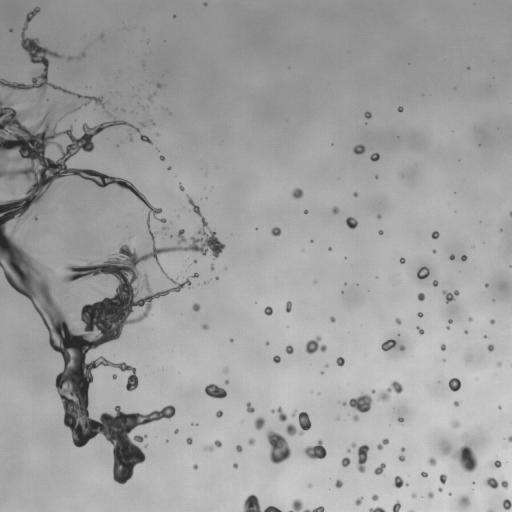droplet: (265, 428, 291, 463), (338, 391, 372, 413), (285, 408, 311, 436), (301, 439, 326, 460), (304, 335, 327, 354), (204, 383, 226, 399), (270, 405, 288, 423), (442, 289, 459, 303), (392, 475, 409, 488), (483, 476, 499, 489), (448, 377, 462, 391), (381, 339, 396, 351), (253, 416, 265, 431), (456, 495, 471, 507), (345, 216, 358, 229), (416, 266, 429, 279), (373, 462, 386, 475), (291, 187, 303, 199), (426, 455, 439, 466), (353, 144, 365, 155), (14, 189, 25, 200), (295, 197, 306, 208), (196, 261, 207, 272), (199, 268, 210, 279), (273, 303, 284, 314), (120, 323, 131, 334), (294, 342, 305, 353), (84, 350, 95, 361), (53, 361, 64, 372), (212, 397, 223, 408), (138, 404, 149, 415), (450, 407, 461, 418), (89, 409, 100, 420), (263, 419, 274, 430), (275, 424, 286, 435), (62, 427, 73, 438), (256, 428, 267, 439), (94, 431, 105, 442), (284, 434, 295, 445), (222, 439, 233, 450), (451, 440, 462, 451), (103, 441, 114, 452), (261, 442, 272, 453), (289, 446, 300, 457), (470, 446, 481, 457), (104, 453, 115, 464), (364, 458, 375, 469), (452, 459, 463, 470), (132, 462, 143, 473), (336, 466, 347, 477), (429, 466, 440, 477), (383, 468, 394, 479), (491, 468, 502, 479), (302, 498, 313, 509), (449, 419, 461, 429), (270, 226, 281, 236), (341, 456, 351, 467), (280, 501, 291, 511), (147, 91, 156, 103), (489, 460, 501, 469), (502, 499, 511, 511), (246, 402, 255, 413), (392, 500, 401, 511), (285, 300, 292, 313), (191, 302, 201, 311), (285, 344, 294, 354), (354, 496, 363, 506), (439, 473, 447, 484), (370, 152, 379, 161), (264, 306, 273, 315), (336, 357, 345, 366), (334, 479, 343, 488), (24, 29, 33, 38), (20, 50, 29, 59), (362, 149, 371, 158), (65, 159, 74, 168), (118, 171, 127, 180), (125, 174, 134, 183), (351, 211, 360, 220), (149, 218, 158, 227), (207, 221, 216, 230), (216, 233, 225, 242), (168, 237, 177, 246), (415, 300, 424, 309), (416, 317, 425, 326), (279, 351, 288, 360), (121, 405, 130, 414), (56, 407, 65, 416), (248, 412, 257, 421), (290, 417, 299, 426), (261, 423, 270, 432), (126, 430, 135, 439), (177, 431, 186, 440), (433, 451, 442, 460), (232, 452, 241, 461), (349, 452, 358, 461), (422, 463, 431, 472), (452, 489, 461, 498), (258, 500, 267, 509), (431, 230, 439, 239), (417, 292, 425, 301), (247, 437, 255, 446), (426, 491, 434, 500), (505, 488, 511, 499), (235, 505, 246, 511), (357, 505, 368, 511), (460, 505, 471, 511), (331, 206, 339, 214), (416, 326, 424, 334), (273, 355, 281, 363), (397, 416, 404, 425), (235, 444, 242, 453), (364, 111, 371, 119), (201, 323, 209, 330), (216, 409, 223, 417), (186, 437, 193, 445), (29, 0, 40, 5), (0, 86, 5, 97), (0, 176, 5, 187), (0, 193, 5, 204), (0, 273, 5, 284), (460, 254, 467, 261), (329, 316, 336, 323), (398, 344, 405, 351), (487, 344, 494, 351), (464, 355, 471, 362), (352, 414, 359, 421), (398, 454, 405, 461), (371, 494, 378, 501), (37, 40, 44, 47), (72, 49, 79, 56), (37, 62, 44, 69), (46, 75, 53, 82), (7, 76, 14, 83), (24, 78, 31, 85), (140, 89, 147, 96), (140, 97, 147, 104), (117, 113, 124, 120), (140, 127, 147, 134), (132, 132, 139, 139), (90, 135, 97, 142), (351, 139, 358, 146), (88, 163, 95, 170), (99, 167, 106, 174), (288, 184, 295, 191), (136, 185, 143, 192), (301, 191, 308, 198), (145, 194, 152, 201), (296, 196, 303, 203), (151, 201, 158, 208), (182, 231, 189, 238), (154, 241, 161, 248), (206, 248, 213, 255), (193, 250, 200, 257), (454, 252, 461, 259), (211, 269, 218, 276), (425, 275, 432, 282), (18, 293, 25, 300), (300, 338, 307, 345), (483, 338, 490, 345), (314, 348, 321, 355), (55, 351, 62, 358), (501, 360, 508, 367), (113, 367, 120, 374), (124, 369, 131, 376), (398, 378, 405, 385), (384, 380, 391, 387), (217, 381, 224, 388), (87, 382, 94, 389), (49, 383, 56, 390), (130, 388, 137, 395), (363, 388, 370, 395), (389, 389, 396, 396), (352, 391, 359, 398), (370, 393, 377, 400), (56, 398, 63, 405), (369, 401, 376, 408), (350, 406, 357, 413), (281, 407, 288, 414), (109, 409, 116, 416), (272, 411, 279, 418), (148, 420, 155, 427), (294, 423, 301, 430), (457, 425, 464, 432), (87, 437, 94, 444), (356, 439, 363, 446), (438, 439, 445, 446), (136, 441, 143, 448), (241, 442, 248, 449), (365, 449, 372, 456), (264, 455, 271, 462), (281, 458, 288, 465), (400, 474, 407, 481), (125, 478, 132, 485), (112, 480, 119, 487), (461, 488, 468, 495), (241, 492, 248, 499), (291, 493, 298, 500), (468, 495, 475, 502), (371, 501, 378, 508), (301, 502, 308, 509), (98, 33, 104, 41), (395, 317, 401, 325), (453, 400, 461, 406), (130, 108, 137, 114), (398, 257, 405, 263), (432, 280, 438, 287), (440, 344, 446, 351), (421, 471, 428, 477), (397, 106, 403, 112), (159, 155, 165, 161), (467, 316, 473, 322), (489, 318, 495, 324), (496, 361, 502, 367), (232, 462, 238, 468), (0, 271, 4, 280), (161, 226, 168, 231), (223, 366, 228, 373), (193, 463, 198, 470), (449, 254, 454, 260), (417, 312, 423, 317), (224, 379, 229, 385), (400, 446, 405, 452), (438, 486, 443, 492), (411, 492, 416, 498), (507, 480, 511, 487), (385, 507, 392, 511), (397, 507, 404, 511), (166, 166, 171, 171), (353, 192, 358, 197), (376, 214, 381, 219), (378, 230, 383, 235), (28, 6, 33, 11), (34, 12, 39, 17), (21, 15, 26, 20), (30, 17, 35, 22), (27, 20, 32, 25), (18, 23, 23, 28), (16, 38, 21, 43), (56, 49, 61, 54), (84, 49, 89, 54), (64, 51, 69, 56), (44, 53, 49, 58), (80, 56, 85, 61), (71, 58, 76, 63), (47, 64, 52, 69), (158, 78, 163, 83), (54, 81, 59, 86), (60, 83, 65, 88), (65, 85, 70, 90), (152, 85, 157, 90), (79, 90, 84, 95), (87, 91, 92, 96), (94, 92, 99, 97), (151, 95, 156, 100), (131, 98, 136, 103), (104, 104, 109, 109), (125, 106, 130, 111), (136, 107, 141, 112), (361, 107, 366, 112), (366, 117, 371, 122), (145, 120, 150, 125), (134, 122, 139, 127), (122, 124, 127, 129), (129, 127, 134, 132), (98, 130, 103, 135), (142, 140, 147, 145), (360, 140, 365, 145), (78, 147, 83, 152), (356, 153, 361, 158), (376, 158, 381, 163), (83, 164, 88, 169), (181, 182, 186, 187), (298, 184, 303, 189), (301, 188, 306, 193), (193, 200, 198, 205), (333, 201, 338, 206), (337, 205, 342, 210), (198, 207, 203, 212), (327, 207, 332, 212), (155, 212, 160, 217), (345, 212, 350, 217), (149, 216, 154, 221), (196, 216, 201, 221), (158, 221, 163, 226), (277, 223, 282, 228), (176, 225, 181, 230), (344, 225, 349, 230), (354, 225, 359, 230), (266, 227, 271, 232), (280, 228, 285, 233), (279, 231, 284, 236), (196, 233, 201, 238), (274, 234, 279, 239), (221, 247, 226, 252), (174, 249, 179, 254), (168, 250, 173, 255), (156, 253, 161, 258), (168, 272, 173, 277), (189, 277, 194, 282), (422, 277, 427, 282), (177, 278, 182, 283), (5, 282, 10, 287), (183, 283, 188, 288), (341, 285, 346, 290), (10, 287, 15, 292), (179, 287, 184, 292), (168, 290, 173, 295), (158, 295, 163, 300), (413, 295, 418, 300), (423, 295, 428, 300), (441, 296, 446, 301), (151, 297, 156, 302), (196, 299, 201, 304), (416, 299, 421, 304), (448, 300, 453, 305), (187, 303, 192, 308), (281, 304, 286, 309), (290, 304, 295, 309), (271, 306, 276, 311), (198, 307, 203, 312), (259, 308, 264, 313), (147, 309, 152, 314), (192, 310, 197, 315), (34, 312, 39, 317), (469, 312, 474, 317), (269, 313, 274, 318), (333, 313, 338, 318), (265, 314, 270, 319), (398, 315, 403, 320), (485, 316, 490, 321), (142, 317, 147, 322), (325, 317, 330, 322), (334, 318, 339, 323), (38, 319, 43, 324), (206, 320, 211, 325), (134, 321, 139, 326), (328, 321, 333, 326), (392, 321, 397, 326), (41, 325, 46, 330), (202, 328, 207, 333), (43, 329, 48, 334), (392, 335, 397, 340), (382, 336, 387, 341), (44, 339, 49, 344), (285, 340, 290, 345), (403, 342, 408, 347), (291, 343, 296, 348), (492, 343, 497, 348), (393, 344, 398, 349), (445, 344, 450, 349), (47, 345, 52, 350), (325, 346, 330, 351), (389, 347, 394, 352), (398, 350, 403, 355), (105, 355, 110, 360), (116, 358, 121, 363), (125, 360, 130, 365), (270, 360, 275, 365), (343, 360, 348, 365), (332, 361, 337, 366), (321, 366, 326, 371), (90, 368, 95, 373), (134, 371, 139, 376), (223, 374, 228, 379), (447, 374, 452, 379), (51, 377, 56, 382), (137, 378, 142, 383), (444, 378, 449, 383), (459, 378, 464, 383), (205, 380, 210, 385), (200, 385, 205, 390), (401, 385, 406, 390), (457, 387, 462, 392), (447, 388, 452, 393), (207, 395, 212, 400), (163, 401, 168, 406), (170, 401, 175, 406), (250, 402, 255, 407), (337, 402, 342, 407), (449, 402, 454, 407), (345, 403, 350, 408), (242, 404, 247, 409), (272, 404, 277, 409), (156, 406, 161, 411), (296, 408, 301, 413), (211, 410, 216, 415), (364, 410, 369, 415), (170, 415, 175, 420), (347, 415, 352, 420), (161, 416, 166, 421), (308, 416, 313, 421), (457, 417, 462, 422), (354, 420, 359, 425), (144, 422, 149, 427), (451, 427, 456, 432), (303, 429, 308, 434), (186, 432, 191, 437), (383, 433, 388, 438), (504, 433, 509, 438), (142, 437, 147, 442), (503, 438, 508, 443), (191, 439, 196, 444), (377, 439, 382, 444), (182, 440, 187, 445), (234, 440, 239, 445), (69, 441, 74, 446), (312, 441, 317, 446), (321, 442, 326, 447), (346, 443, 351, 448), (81, 444, 86, 449), (213, 445, 218, 450), (140, 447, 145, 452), (324, 447, 329, 452), (232, 448, 237, 453), (205, 450, 210, 455), (397, 450, 402, 455), (401, 451, 406, 456), (344, 452, 349, 457), (491, 456, 496, 461), (143, 457, 148, 462), (315, 457, 320, 462), (319, 457, 324, 462), (191, 459, 196, 464), (336, 459, 341, 464), (188, 462, 193, 467), (375, 462, 380, 467), (228, 464, 233, 469), (188, 465, 193, 470), (191, 468, 196, 473), (355, 470, 360, 475), (108, 471, 113, 476), (377, 473, 382, 478), (503, 476, 508, 481), (339, 477, 344, 482), (331, 478, 336, 483), (390, 479, 395, 484), (496, 479, 501, 484), (437, 481, 442, 486), (400, 484, 405, 489), (486, 485, 491, 490), (334, 486, 339, 491), (337, 486, 342, 491), (393, 486, 398, 491), (424, 488, 429, 493), (371, 489, 376, 494), (433, 489, 438, 494), (376, 491, 381, 496), (415, 494, 420, 499), (352, 495, 357, 500), (423, 495, 428, 500), (498, 498, 503, 503), (391, 499, 396, 504), (274, 503, 279, 508), (312, 503, 317, 508), (288, 505, 293, 510), (176, 214, 180, 220), (174, 428, 178, 434), (374, 174, 378, 179), (304, 209, 308, 214), (192, 259, 197, 263), (214, 276, 219, 280), (313, 279, 317, 284), (484, 283, 489, 287), (464, 329, 468, 334), (229, 338, 233, 343), (441, 358, 446, 362), (112, 374, 116, 379), (371, 389, 375, 394), (335, 416, 340, 420), (144, 443, 148, 448), (307, 483, 312, 487), (203, 2, 207, 6), (155, 132, 159, 136), (400, 173, 404, 177), (432, 249, 436, 253), (483, 334, 487, 338), (265, 341, 269, 345), (317, 391, 321, 395), (497, 405, 501, 409), (165, 439, 169, 443), (507, 507, 511, 511), (328, 246, 331, 251), (204, 281, 209, 284), (508, 441, 511, 446), (172, 14, 175, 18), (146, 39, 149, 43), (466, 66, 470, 69), (168, 111, 171, 115), (169, 220, 172, 224), (116, 223, 119, 227), (254, 227, 258, 230), (169, 234, 172, 238), (310, 239, 313, 243), (224, 266, 227, 270), (492, 299, 495, 303), (324, 364, 328, 367), (320, 371, 324, 374), (309, 390, 313, 393), (240, 419, 243, 423), (471, 481, 475, 484), (0, 84, 2, 89), (0, 211, 2, 216), (0, 266, 2, 271), (9, 28, 12, 31), (46, 98, 49, 101), (116, 144, 119, 147), (479, 220, 482, 223), (499, 228, 502, 231), (471, 245, 474, 248), (301, 249, 304, 252), (375, 276, 378, 279), (397, 333, 400, 336), (437, 380, 440, 383), (448, 492, 451, 495), (38, 4, 41, 7), (202, 5, 205, 8), (175, 13, 178, 16), (169, 14, 172, 17), (8, 25, 11, 28), (19, 28, 22, 31), (8, 31, 11, 34), (102, 36, 105, 39), (466, 63, 469, 66), (465, 68, 468, 71), (17, 80, 20, 83), (160, 85, 163, 88), (156, 87, 159, 90), (395, 104, 398, 107), (122, 105, 125, 108), (168, 108, 171, 111), (402, 108, 405, 111), (398, 111, 401, 114), (370, 112, 373, 115), (364, 117, 367, 120), (152, 119, 155, 122), (114, 124, 117, 127), (109, 125, 112, 128), (137, 135, 140, 138), (148, 136, 151, 139), (126, 137, 129, 140), (116, 140, 119, 143), (477, 140, 480, 143), (327, 142, 330, 145), (332, 144, 335, 147), (157, 146, 160, 149), (162, 153, 165, 156), (158, 159, 161, 162), (372, 160, 375, 163), (165, 164, 168, 167), (168, 169, 171, 172), (377, 176, 380, 179), (372, 177, 375, 180), (178, 178, 181, 181), (177, 187, 180, 190), (183, 188, 186, 191), (452, 188, 455, 191), (179, 190, 182, 193), (357, 192, 360, 195), (351, 195, 354, 198), (207, 196, 210, 199), (190, 205, 193, 208), (304, 206, 307, 209), (161, 208, 164, 211), (300, 210, 303, 213), (307, 211, 310, 214), (194, 212, 197, 215), (506, 212, 509, 215), (303, 213, 306, 216), (380, 213, 383, 216), (374, 216, 377, 219), (379, 217, 382, 220), (163, 222, 166, 225), (253, 224, 256, 227), (183, 227, 186, 230), (377, 227, 380, 230), (435, 228, 438, 231), (496, 228, 499, 231), (502, 228, 505, 231), (150, 229, 153, 232), (163, 229, 166, 232), (255, 229, 258, 232), (175, 231, 178, 234), (382, 231, 385, 234), (499, 231, 502, 234), (166, 233, 169, 236), (428, 233, 431, 236), (379, 234, 382, 237), (310, 236, 313, 239), (306, 238, 309, 241), (432, 238, 435, 241), (313, 239, 316, 242), (310, 242, 313, 245), (330, 245, 333, 248), (432, 246, 435, 249), (324, 247, 327, 250), (435, 248, 438, 251), (429, 250, 432, 253), (435, 251, 438, 254), (464, 252, 467, 255), (447, 253, 450, 256), (341, 254, 344, 257), (401, 254, 404, 257), (397, 255, 400, 258), (346, 256, 349, 259), (341, 257, 344, 260), (447, 258, 450, 261), (465, 258, 468, 261), (450, 259, 453, 262), (459, 259, 462, 262), (404, 260, 407, 263), (397, 261, 400, 264), (159, 262, 162, 265), (192, 262, 195, 265), (400, 263, 403, 266), (184, 264, 187, 267), (213, 264, 216, 267), (425, 264, 428, 267), (162, 267, 165, 270), (207, 267, 210, 270), (415, 268, 418, 271), (190, 272, 193, 275), (198, 274, 201, 277), (218, 276, 221, 279), (172, 277, 175, 280), (212, 277, 215, 280), (416, 277, 419, 280), (435, 277, 438, 280), (182, 278, 185, 281), (215, 279, 218, 282), (200, 281, 203, 284), (353, 281, 356, 284), (340, 282, 343, 285), (346, 282, 349, 285), (358, 282, 361, 285), (437, 282, 440, 285), (430, 283, 433, 286), (481, 284, 484, 287), (355, 285, 358, 288), (487, 285, 490, 288), (457, 289, 460, 292), (337, 290, 340, 293), (343, 290, 346, 293), (450, 290, 453, 293), (452, 294, 455, 297), (267, 303, 270, 306), (263, 304, 266, 307), (416, 309, 419, 312), (421, 310, 424, 313), (416, 315, 419, 318), (465, 315, 468, 318), (420, 316, 423, 319), (446, 316, 449, 319), (450, 316, 453, 319), (492, 316, 495, 319), (470, 320, 473, 323), (490, 323, 493, 326), (419, 325, 422, 328), (443, 327, 446, 330), (466, 327, 469, 330), (415, 328, 418, 331), (396, 330, 399, 333), (467, 330, 470, 333), (399, 332, 402, 335), (422, 332, 425, 335), (462, 332, 465, 335), (481, 332, 484, 335), (485, 332, 488, 335), (387, 336, 390, 339), (232, 339, 235, 342), (268, 340, 271, 343), (262, 341, 265, 344), (378, 345, 381, 348), (437, 346, 440, 349), (292, 348, 295, 351), (379, 348, 382, 351), (485, 348, 488, 351), (403, 349, 406, 352), (443, 349, 446, 352), (491, 349, 494, 352), (274, 352, 277, 355), (336, 354, 339, 357), (341, 355, 344, 358), (445, 358, 448, 361), (439, 360, 442, 363), (443, 361, 446, 364), (317, 369, 320, 372), (317, 372, 320, 375), (321, 373, 324, 376), (109, 375, 112, 378), (112, 378, 115, 381), (228, 379, 231, 382), (313, 391, 316, 394), (455, 398, 458, 401), (245, 399, 248, 402), (346, 400, 349, 403), (116, 402, 119, 405), (458, 402, 461, 405), (495, 403, 498, 406), (500, 404, 503, 407), (456, 405, 459, 408), (215, 408, 218, 411), (496, 408, 499, 411), (174, 409, 177, 412), (221, 413, 224, 416), (400, 414, 403, 417), (339, 417, 342, 420), (403, 417, 406, 420), (187, 421, 190, 424), (192, 421, 195, 424), (398, 421, 401, 424), (198, 422, 201, 425), (192, 424, 195, 427), (172, 427, 175, 430), (177, 430, 180, 433), (166, 436, 169, 439), (162, 439, 165, 442), (168, 439, 171, 442), (219, 439, 222, 442), (388, 439, 391, 442), (211, 441, 214, 444), (404, 447, 407, 450), (498, 458, 501, 461), (397, 459, 400, 462), (403, 459, 406, 462), (500, 462, 503, 465), (237, 464, 240, 467), (197, 465, 200, 468), (498, 466, 501, 469), (232, 467, 235, 470), (423, 469, 426, 472), (441, 471, 444, 474), (427, 472, 430, 475), (419, 474, 422, 477), (423, 476, 426, 479), (472, 478, 475, 481), (474, 482, 477, 485), (470, 483, 473, 486), (450, 490, 453, 493), (448, 495, 451, 498), (399, 501, 402, 504), (421, 93, 424, 95), (365, 122, 367, 125), (331, 142, 333, 145), (478, 144, 481, 146), (205, 196, 207, 199), (164, 233, 167, 235), (344, 256, 346, 259), (509, 265, 511, 268), (344, 282, 346, 285), (341, 291, 343, 294), (254, 301, 257, 303), (286, 325, 289, 327), (509, 261, 511, 264), (509, 267, 511, 270), (454, 87, 456, 89), (397, 136, 399, 138), (356, 283, 358, 285), (506, 461, 508, 463), (203, 0, 206, 1), (198, 283, 199, 285), (389, 424, 391, 425), (421, 496, 423, 497), (454, 192, 455, 193)
ligament: (242, 494, 282, 511), (376, 380, 403, 402), (287, 498, 326, 511), (356, 444, 369, 473), (131, 94, 149, 113), (203, 439, 222, 452), (376, 438, 389, 450), (139, 119, 155, 128), (499, 475, 508, 489), (346, 442, 356, 453), (368, 506, 386, 511), (446, 319, 452, 330), (114, 107, 126, 112), (178, 182, 184, 191), (210, 262, 214, 271), (190, 422, 198, 426), (486, 508, 496, 511), (142, 60, 145, 67), (155, 147, 159, 151), (407, 509, 415, 511), (509, 210, 511, 217), (188, 264, 192, 267), (510, 362, 511, 367), (472, 488, 473, 493)
